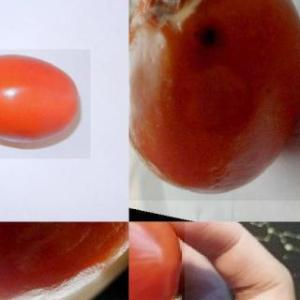tomato: (0, 50, 90, 160)
